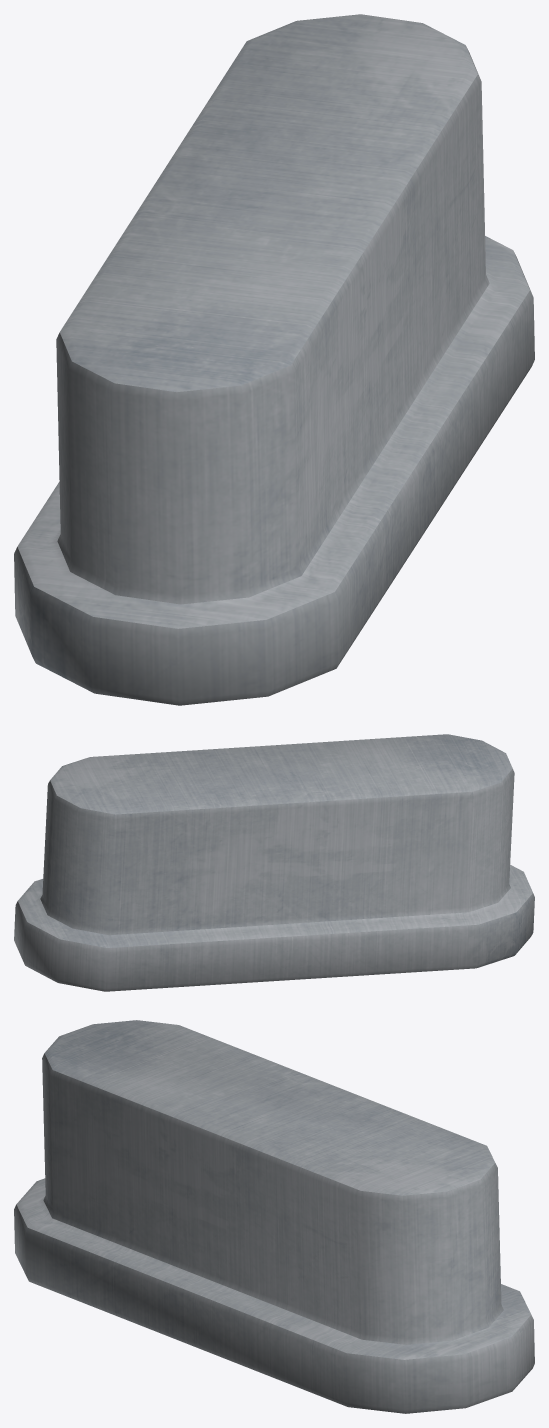
File: CylinderThingBeveled.fbx
3 renders of one model, top to bottom at view 1: azimuth 30°, elevation 25°; view 2: azimuth 150°, elevation 25°; view 3: azimuth 270°, elevation 25°, orthographic. The views are drawn at different scales.
Parts seen in each view (by area): view 1: Cylinder.005; view 2: Cylinder.005; view 3: Cylinder.005.
Part boxes in pixels (left/top/right/bottom): Cylinder.005: left=14, top=14, right=534, bottom=705; Cylinder.005: left=14, top=734, right=534, bottom=991; Cylinder.005: left=14, top=1020, right=534, bottom=1413.
Size of the model in its own units: 1160 by 548 by 1134.
